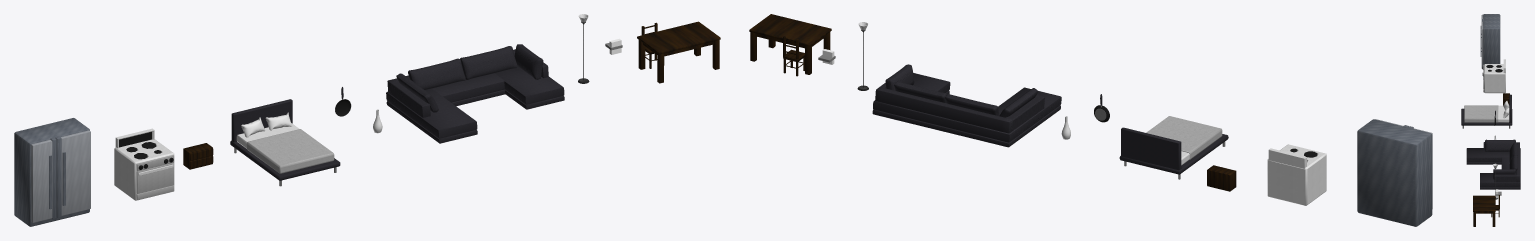
Rendered from Batch 1 of models.FBX.
3 renders of one model, left to right at view 1: azimuth 30°, elevation 25°; view 2: azimuth 150°, elevation 25°; view 3: azimuth 270°, elevation 25°, orthographic. The views are drawn at different scales.
Visible parts, largest first — view 1: Sofa, Fridge, Bed, Stove, Dining table, Side table; view 2: Sofa, Fridge, Bed, Stove, Dining table, Side table, Chair; view 3: Sofa, Bed, Fridge, Stove, Dining table, Chair, Side table, Lamp, Wall light.
Part boxes in pixels (box(x1,y1,x2,y2)): Sofa: box(386, 44, 564, 143); Fridge: box(14, 118, 90, 226); Bed: box(230, 99, 340, 186); Stove: box(114, 128, 174, 200); Dining table: box(637, 21, 720, 83); Side table: box(183, 143, 213, 169); Sofa: box(872, 64, 1061, 147); Fridge: box(1357, 119, 1432, 226); Bed: box(1119, 116, 1228, 179); Stove: box(1267, 144, 1326, 205); Dining table: box(749, 14, 831, 74); Side table: box(1207, 165, 1236, 191); Chair: box(783, 36, 804, 76); Sofa: box(1466, 139, 1520, 189); Bed: box(1461, 94, 1512, 128); Fridge: box(1480, 14, 1500, 68); Stove: box(1482, 59, 1505, 93); Dining table: box(1473, 195, 1495, 226); Chair: box(1491, 195, 1499, 217); Side table: box(1503, 93, 1509, 105); Lamp: box(1493, 163, 1497, 199); Wall light: box(1495, 189, 1501, 198).
Bounding box in the file's own units: 2891 × 343 × 424.
Materials: 13 (12 with a texture image).
